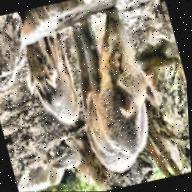boar: (44, 0, 177, 189), (19, 24, 89, 132)
